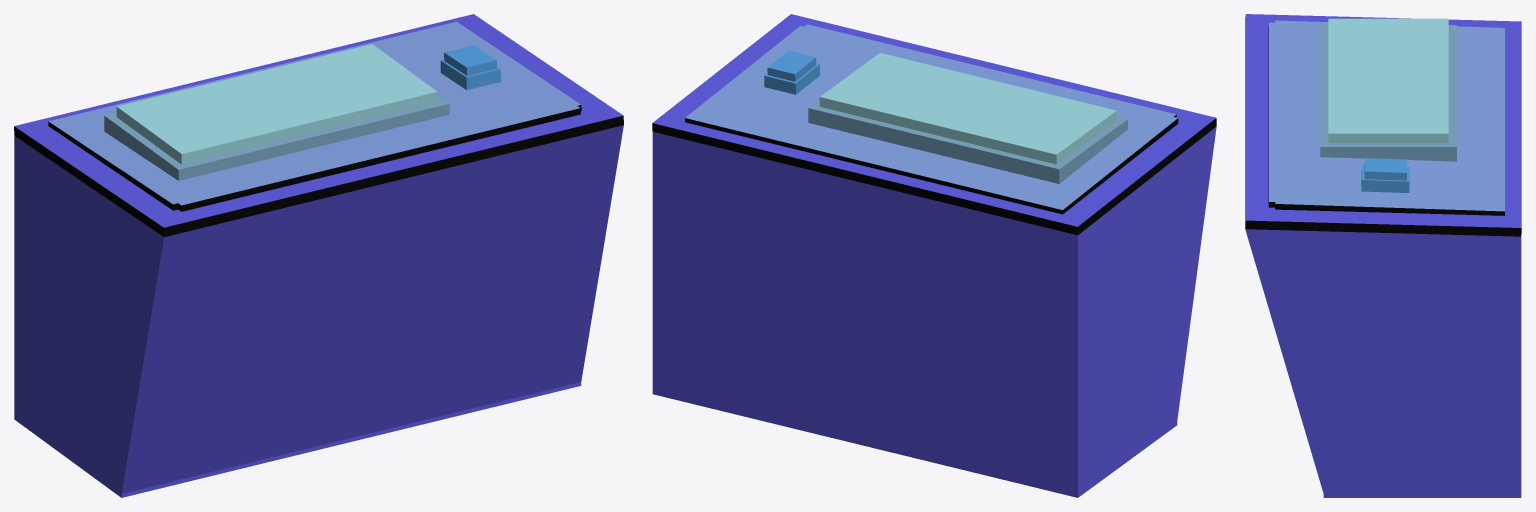
File: table.glb
3 views of the same model, side by side, from view 1: azimuth 30°, elevation 25°; view 2: azimuth 150°, elevation 25°; view 3: azimuth 270°, elevation 25° (orthographic). The views are drawn at different scales.
Parts seen in each view (by area): view 1: Cube.001, Cube.005, Cube.002, Cube, Cube.003; view 2: Cube.001, Cube.005, Cube.002, Cube, Cube.003; view 3: Cube.001, Cube.005, Cube.002, Cube, Cube.003.
Boxes of the visible parts, x1,y1,x2,y2 form: Cube.001: (14,14,623,497); Cube.005: (48,21,581,211); Cube.002: (116,44,437,164); Cube: (104,95,449,180); Cube.003: (440,45,500,89); Cube.001: (652,14,1216,497); Cube.005: (685,24,1178,214); Cube.002: (819,53,1116,164); Cube: (808,100,1127,183); Cube.003: (764,50,819,94); Cube.001: (1245,14,1521,497); Cube.005: (1268,20,1504,215); Cube.002: (1328,18,1448,143); Cube: (1320,25,1456,161); Cube.003: (1361,158,1409,192).
Bounding box in the file's own units: 3.39 × 2.3 × 1.92.
